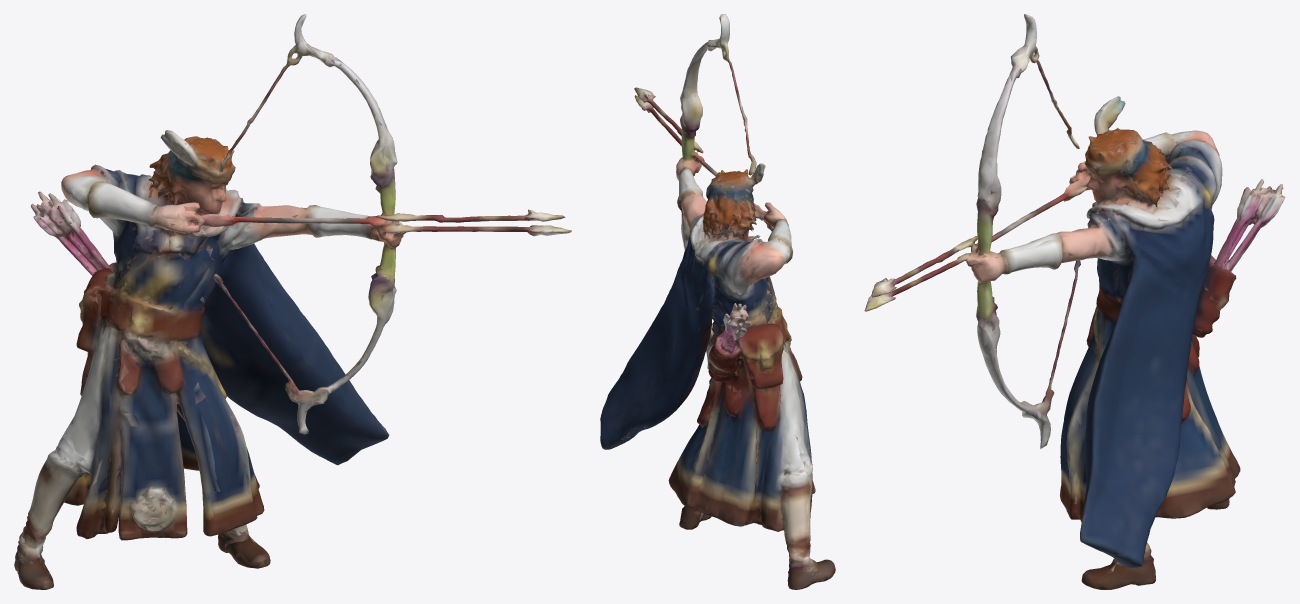
The model's file is Trussel_final.glb.
The picture shows the model from 3 angles, left to right: view 1: azimuth 30°, elevation 25°; view 2: azimuth 150°, elevation 25°; view 3: azimuth 270°, elevation 25°; orthographic projection. The views are drawn at different scales.
Visible parts, largest first — view 1: Mesh1.0; view 2: Mesh1.0; view 3: Mesh1.0.
Boxes of the visible parts, box(x1,y1,x2,y2) form: Mesh1.0: box(14, 14, 571, 589); Mesh1.0: box(600, 14, 835, 589); Mesh1.0: box(864, 14, 1285, 589).
Bounding box in the file's own units: 1.28 × 1.8 × 1.18.
Materials: 1 (1 with a texture image).
